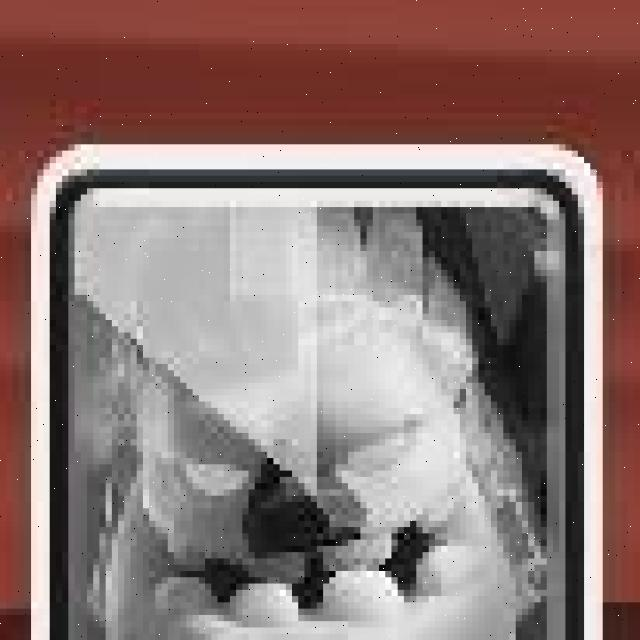Ice_Golem: (39, 145, 608, 640)
